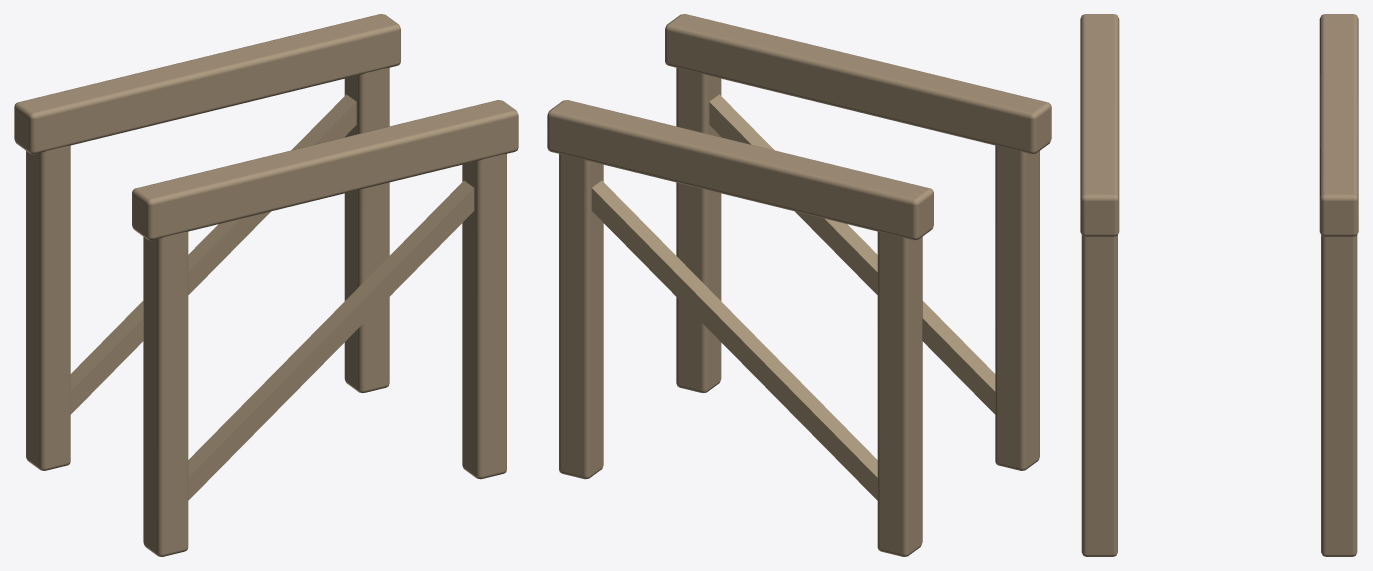
File: coastal-saltworks-and-trade-port-coastal-saltworks-and-a70afb47__31392.glb
3 views of the same model, side by side, from view 1: azimuth 30°, elevation 25°; view 2: azimuth 150°, elevation 25°; view 3: azimuth 270°, elevation 25° (orthographic).
Visible parts, largest first — view 1: coastal-saltworks-and-trade-port-sieve-support-frame; view 2: coastal-saltworks-and-trade-port-sieve-support-frame; view 3: coastal-saltworks-and-trade-port-sieve-support-frame.
Part boxes in pixels (x1,y1,x2,y2): coastal-saltworks-and-trade-port-sieve-support-frame: (14,14,518,556); coastal-saltworks-and-trade-port-sieve-support-frame: (547,14,1051,556); coastal-saltworks-and-trade-port-sieve-support-frame: (1080,14,1358,556).
Bounding box in the file's own units: 0.84 × 0.78 × 0.535.
